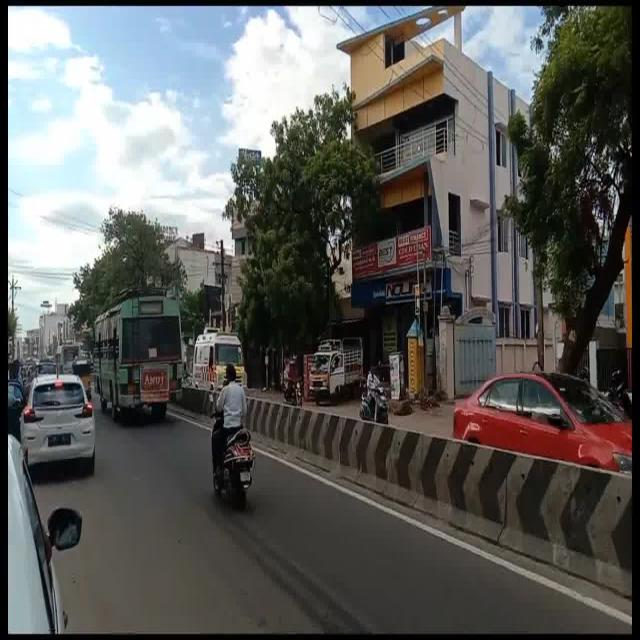ambulance: (192, 326, 249, 392)
